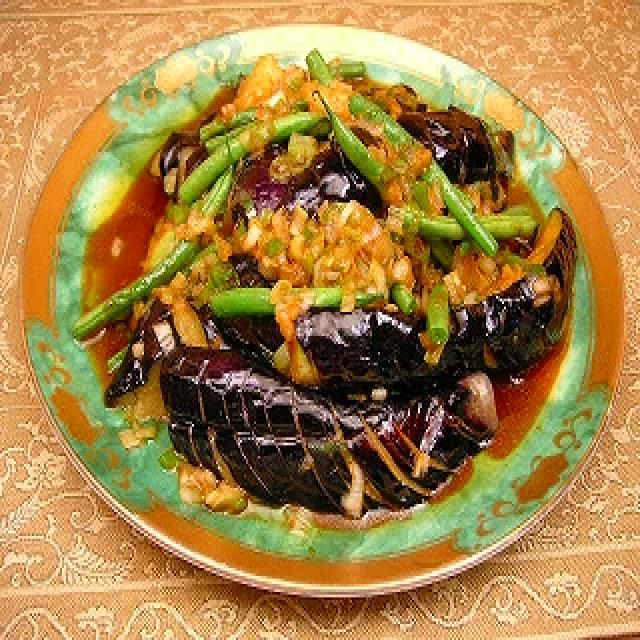鸡蛋料理: (68, 27, 600, 528)
